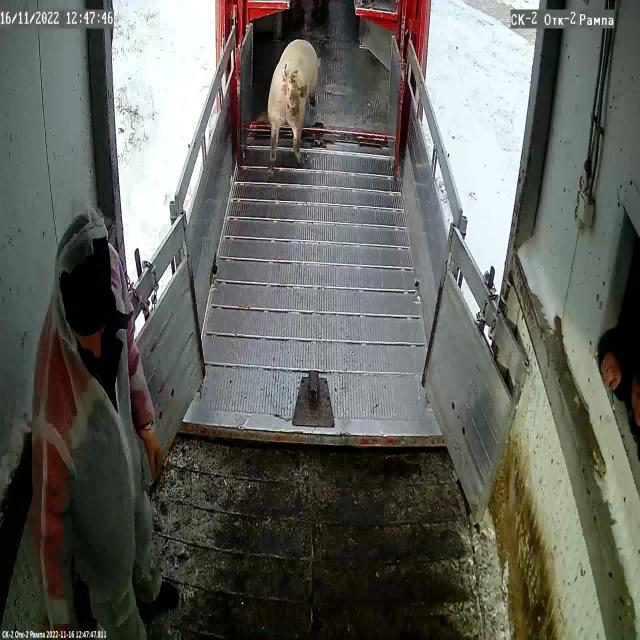pig: (268, 39, 321, 169)
